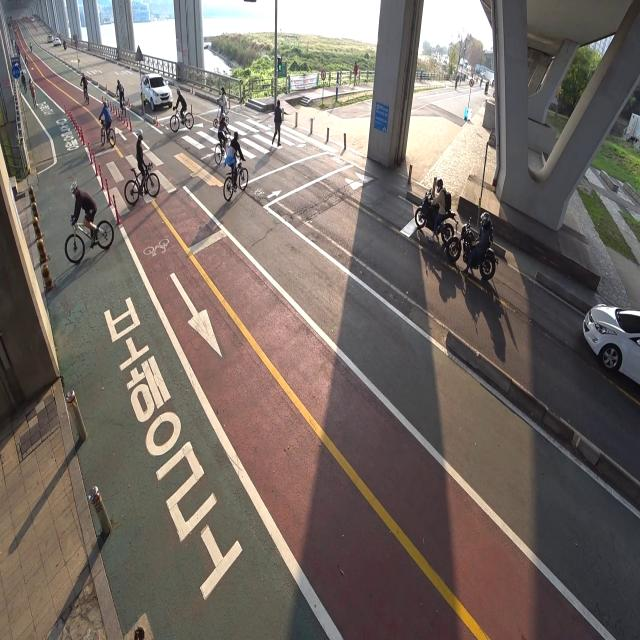Car: (574, 267, 640, 398), (138, 67, 172, 118)
Motorcycle: (405, 167, 468, 248), (445, 208, 497, 282)
